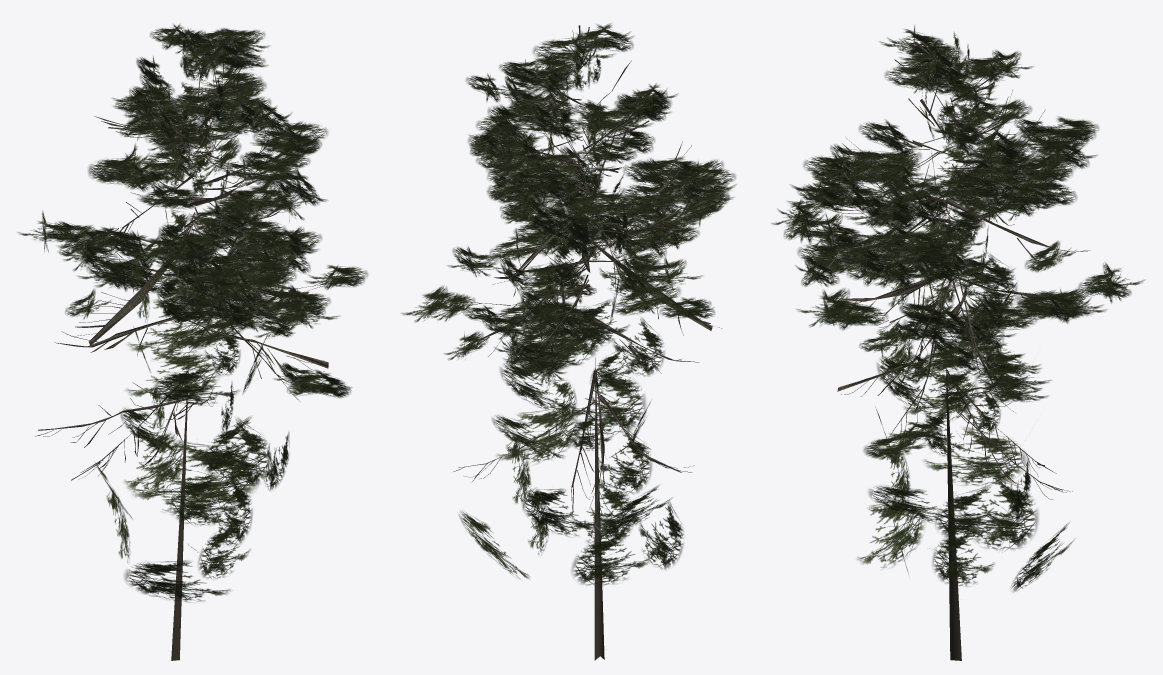
The model's file is tree-v4-mobile.glb.
3 views of the same model, side by side, from view 1: azimuth 30°, elevation 25°; view 2: azimuth 150°, elevation 25°; view 3: azimuth 270°, elevation 25° (orthographic). The views are drawn at different scales.
Parts seen in each view (by area): view 1: tree-v4-mobile; view 2: tree-v4-mobile; view 3: tree-v4-mobile.
Boxes of the visible parts, x1,y1,x2,y2 form: tree-v4-mobile: (17, 23, 367, 660); tree-v4-mobile: (401, 23, 736, 660); tree-v4-mobile: (771, 25, 1144, 660).
Size of the model in its own units: 5.8 by 11.96 by 6.45.
4 materials, 4 textured.
